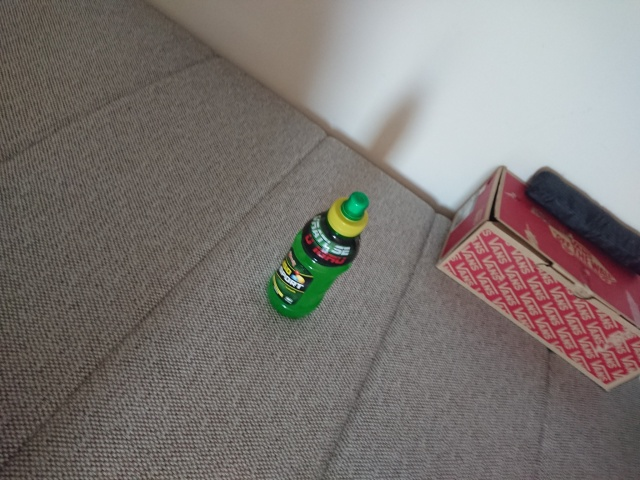Vindi Iso Sport Lemon-Grapefruit 500mL: (263, 188, 372, 322)
